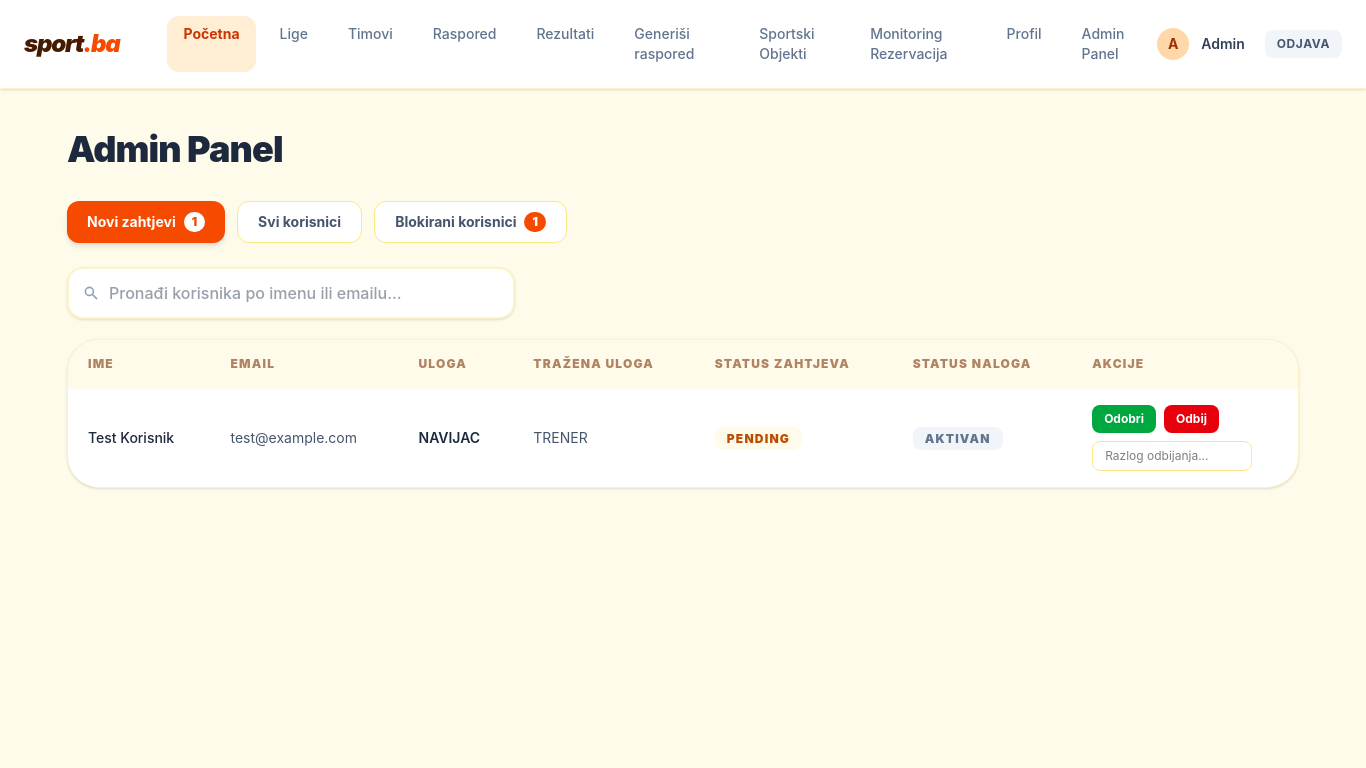
Test: AdminKorisnici UI › prikazuje poruku greske ako se ne unese razlog pri odbijanju
The image size is (1366, 768).
Click the button "Odbij".
click(1192, 419)  # box [1164,405,1219,433]
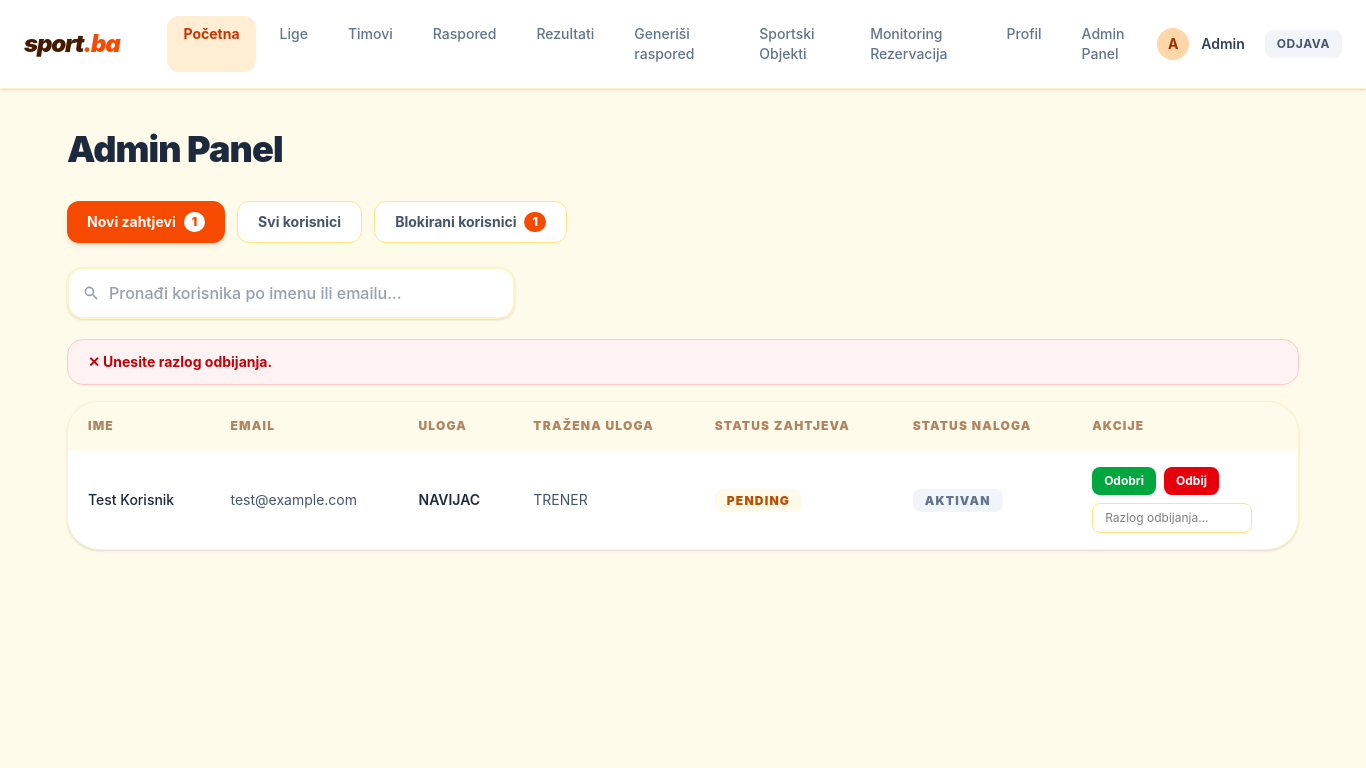
Expected: the text "✕ Unesite razlog odbijanja." is shown, [67,339,1299,385]
